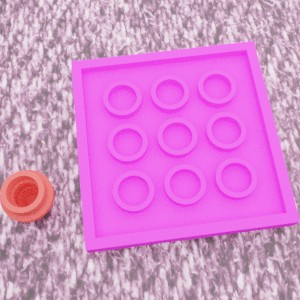lego: (70, 40, 300, 253), (0, 169, 54, 222)
